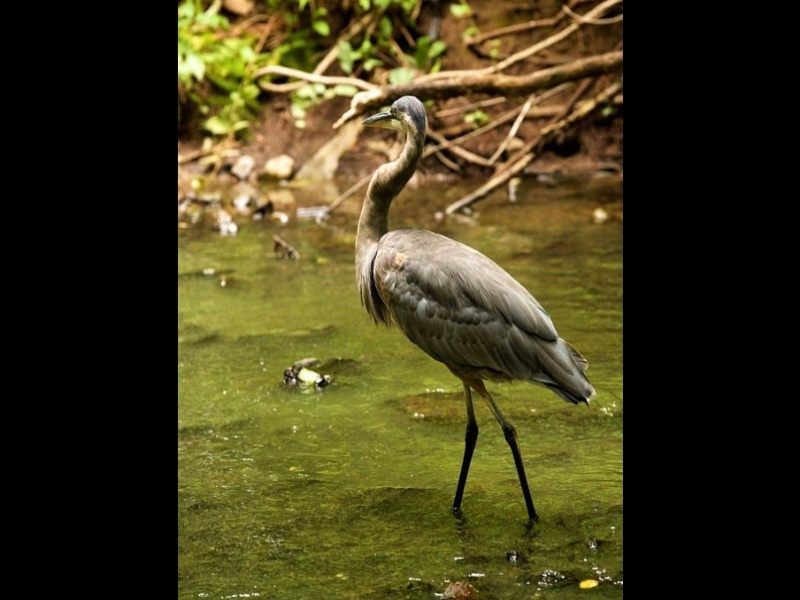heron: (341, 94, 597, 528)
